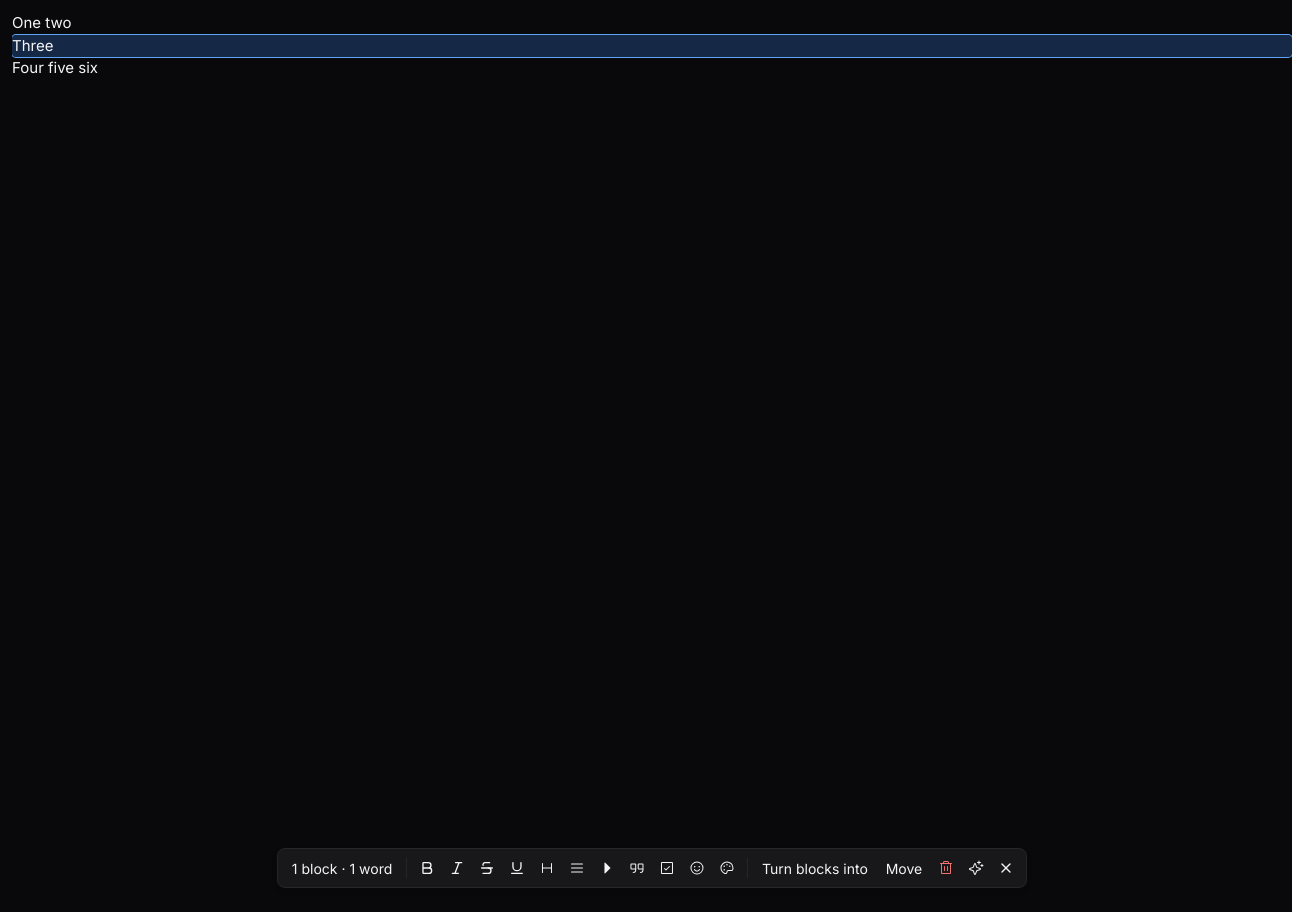
Scenario: <BlockSelectionBar> › the color dropdown sets and removes a block colour
The width and height of the screenshot is (1292, 912).
Later steps or results of the test are not shown.
Press the mouse on the button named "Color" at (727, 868), box [713,854,741,882]
(page scrolled)
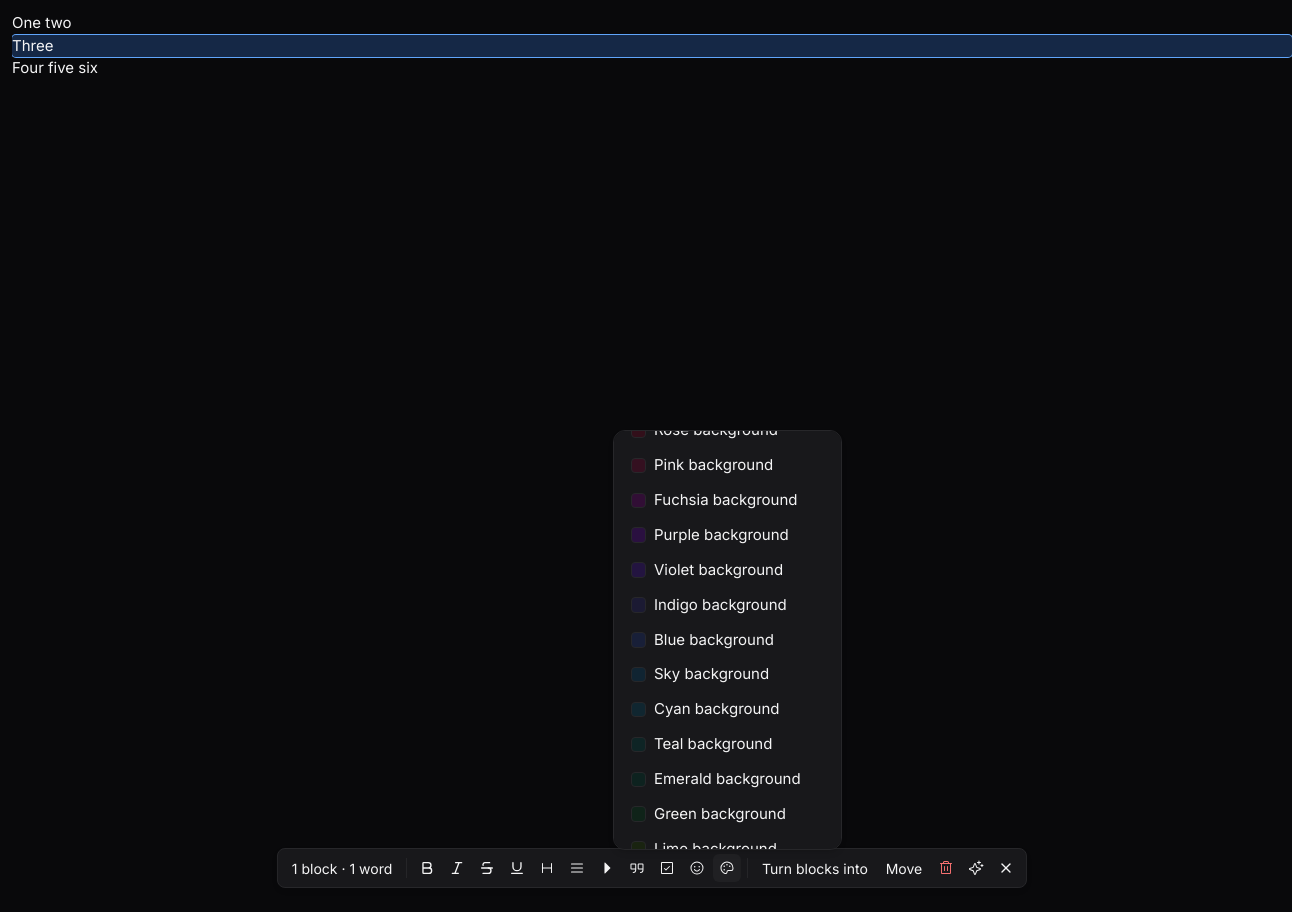
Click the menu item "Blue background" at (702, 639), box [631,630,774,649]
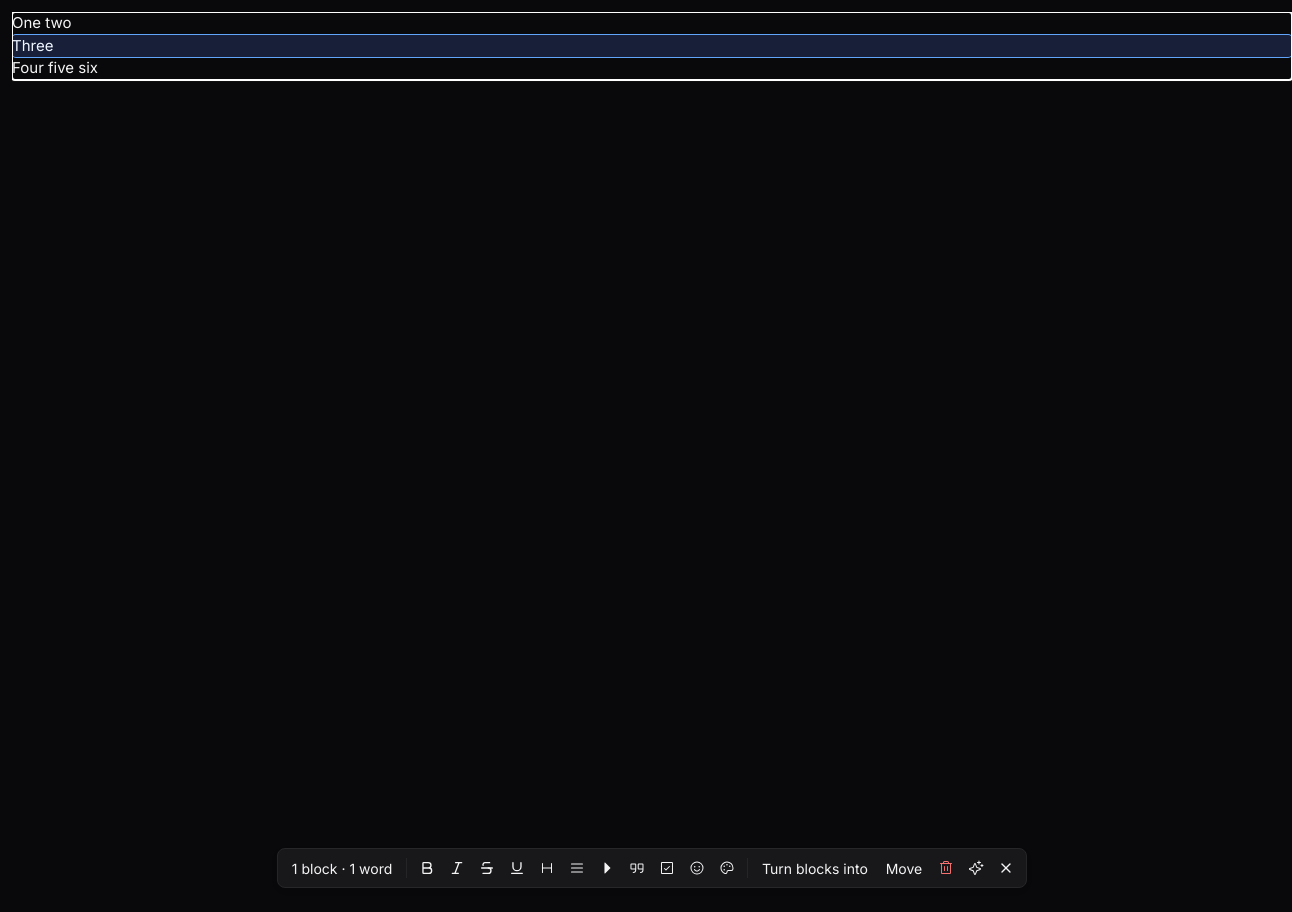
expect the menu is gone: met
